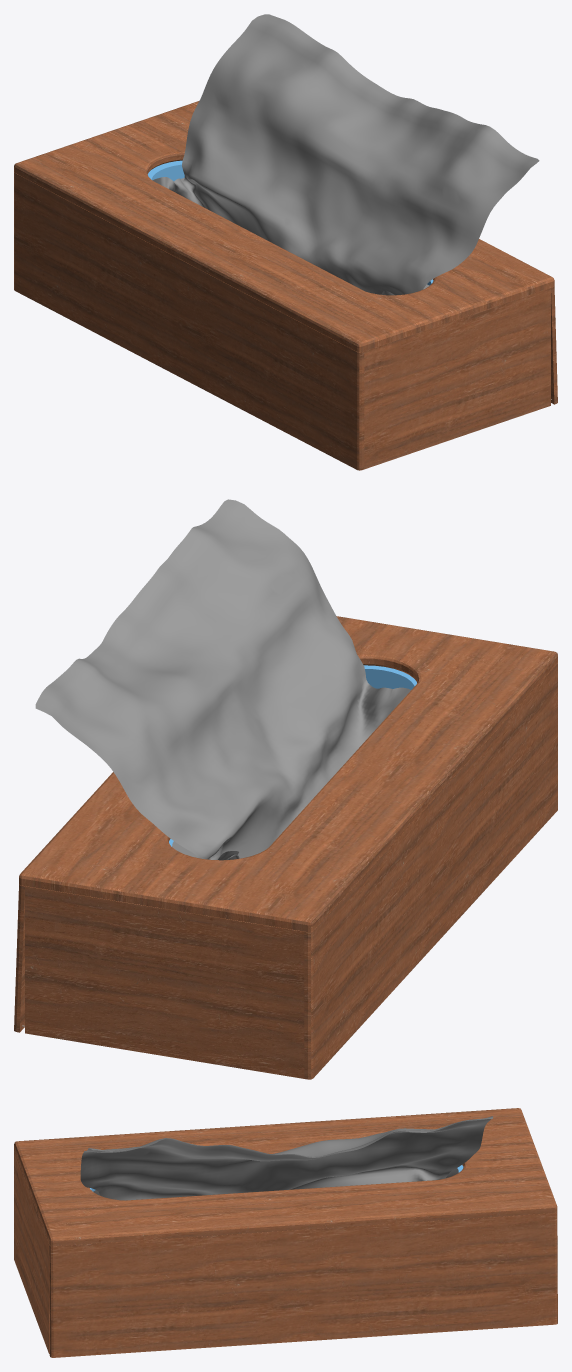
The model's file is tissue_box_paper.glb.
The picture shows the model from 3 angles, top to bottom: view 1: azimuth 30°, elevation 25°; view 2: azimuth 150°, elevation 25°; view 3: azimuth 270°, elevation 25°; orthographic projection. The views are drawn at different scales.
Parts seen in each view (by area): view 1: Object_5, Object_7; view 2: Object_5, Object_7, Object_4; view 3: Object_5, Object_7.
Boxes of the visible parts, <box> form: Object_5: <box>14,101,557,470</box>; Object_7: <box>152,14,539,295</box>; Object_5: <box>14,616,557,1079</box>; Object_7: <box>35,499,410,860</box>; Object_4: <box>169,665,416,846</box>; Object_5: <box>14,1108,557,1357</box>; Object_7: <box>80,1116,493,1200</box>.
Size of the model in its own units: 0.1686 by 0.1261 by 0.2871.
Materials: 4 (1 with a texture image).
